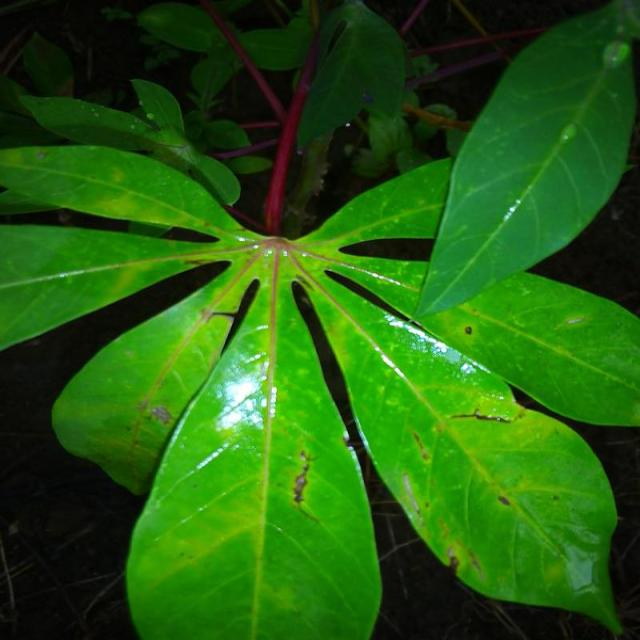cassava leaf: (2, 1, 638, 637), (125, 255, 384, 638), (414, 0, 638, 320)
